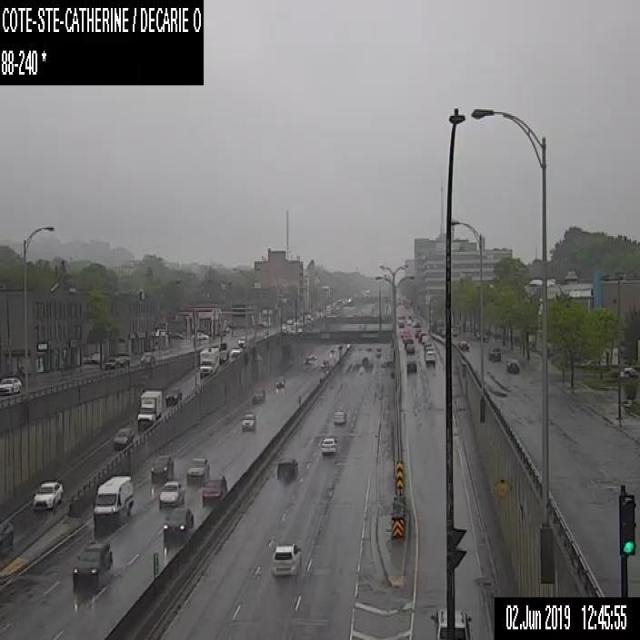vehicle: (93, 476, 132, 528), (72, 540, 112, 585), (431, 608, 471, 638), (268, 541, 302, 576), (162, 508, 194, 538), (137, 390, 162, 425), (32, 481, 62, 509), (202, 475, 227, 505), (159, 480, 184, 508), (199, 346, 219, 376), (150, 454, 173, 480), (186, 457, 209, 481), (276, 456, 298, 479), (0, 516, 14, 549), (113, 427, 134, 447), (0, 376, 20, 395), (165, 386, 181, 406), (320, 436, 337, 454), (240, 412, 254, 429), (116, 352, 130, 366), (333, 409, 346, 424), (620, 367, 639, 377), (506, 359, 520, 372), (252, 387, 264, 402), (191, 330, 207, 340), (423, 346, 433, 361), (488, 348, 500, 360), (140, 351, 154, 361), (104, 357, 116, 368), (218, 349, 228, 362), (406, 360, 416, 372), (425, 350, 435, 361), (404, 337, 414, 348), (274, 376, 284, 386), (458, 340, 469, 349), (230, 346, 240, 355), (418, 331, 426, 342), (303, 355, 312, 364), (406, 343, 414, 353), (320, 359, 328, 367), (413, 328, 420, 337), (238, 336, 245, 345), (412, 320, 420, 327), (421, 334, 428, 342), (423, 340, 432, 346), (398, 319, 404, 327), (406, 319, 410, 324)
